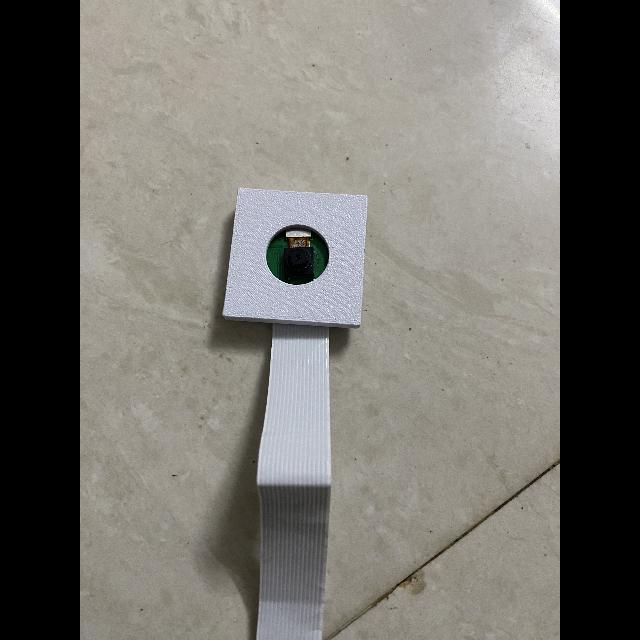RASPBERY PI CAM ENCLOSURE: (224, 189, 367, 327)
